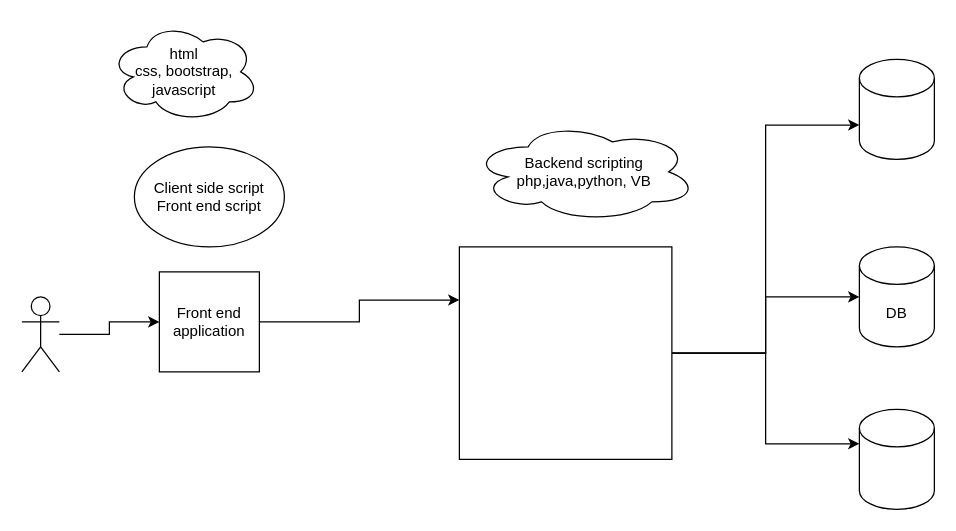
The diagram is 956 pixels wide and 531 high, and some of its shapes have lost their labels. The box of each missing label's shape, as (x1, y1, x2, y2) in pixels:
Actor: (21, 296, 59, 372)
Server: (458, 246, 672, 459)
